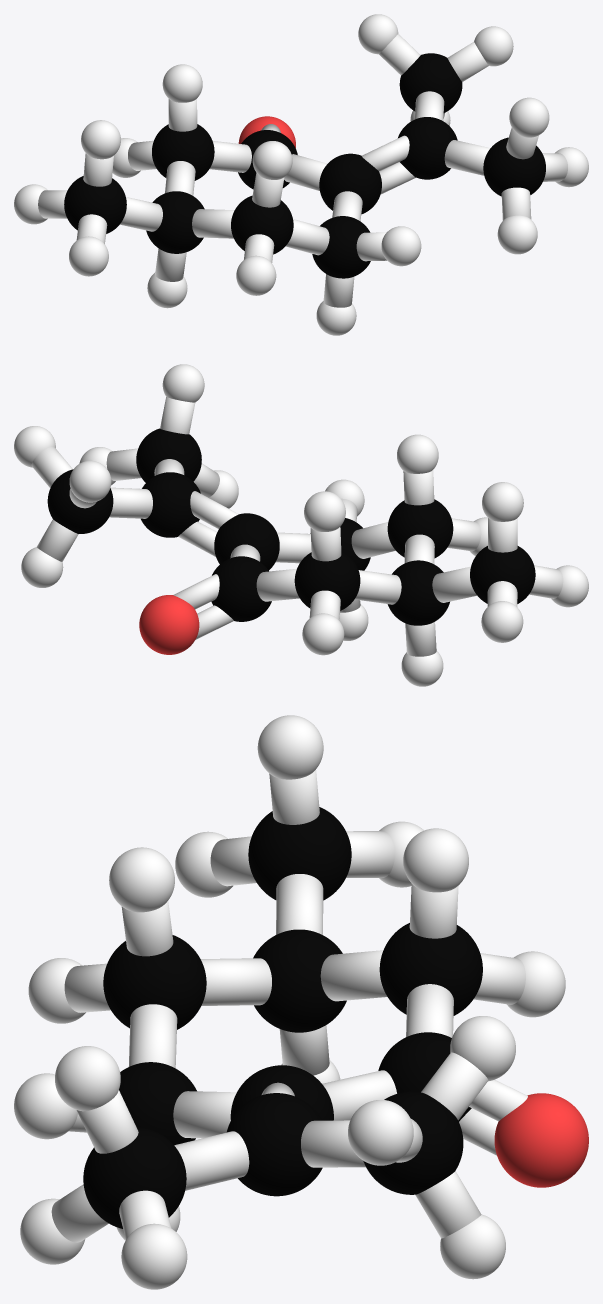
3 renders of one model, top to bottom at view 1: azimuth 30°, elevation 25°; view 2: azimuth 150°, elevation 25°; view 3: azimuth 270°, elevation 25°, orthographic. The views are drawn at different scales.
Visible parts, largest first — view 1: molecule; view 2: molecule; view 3: molecule.
Boxes of the visible parts, x1,y1,x2,y2 form: molecule: (14, 14, 588, 335); molecule: (14, 364, 588, 686); molecule: (14, 715, 588, 1289).
Bounding box in the file's own units: 8.62 × 3.75 × 5.23.
